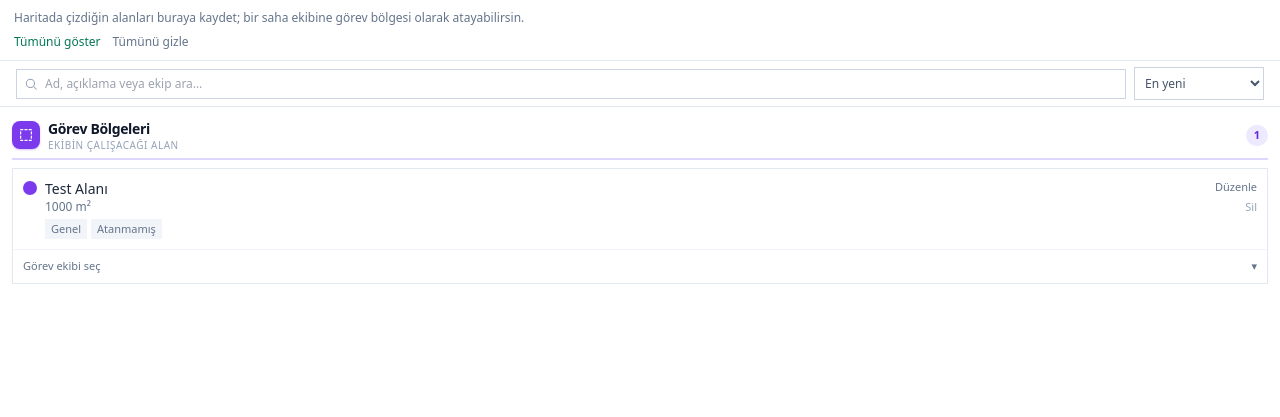
Test: BolgePaneli - atama sonrasi panel guncellenir › ekibe atayinca kart atamayi gosterir ve 'havuza geri al' cikar
# Atama bolumunu ac (katlanmis duruyor).
Click the text "Görev ekibi seç" at [62, 266], box [23,258,101,274]
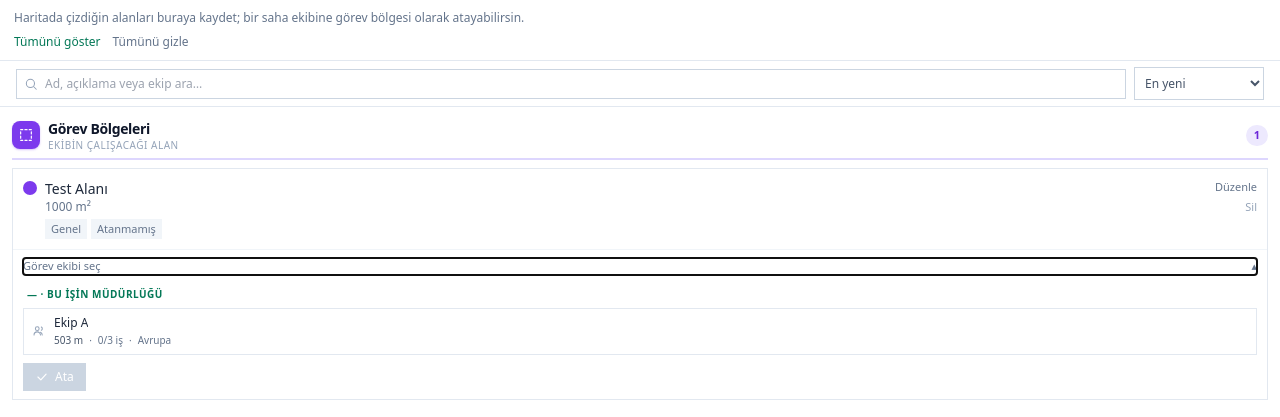
# Ekibi sec ve ata.
Click the text "Ekip A" at [71, 322], box [54,314,88,330]
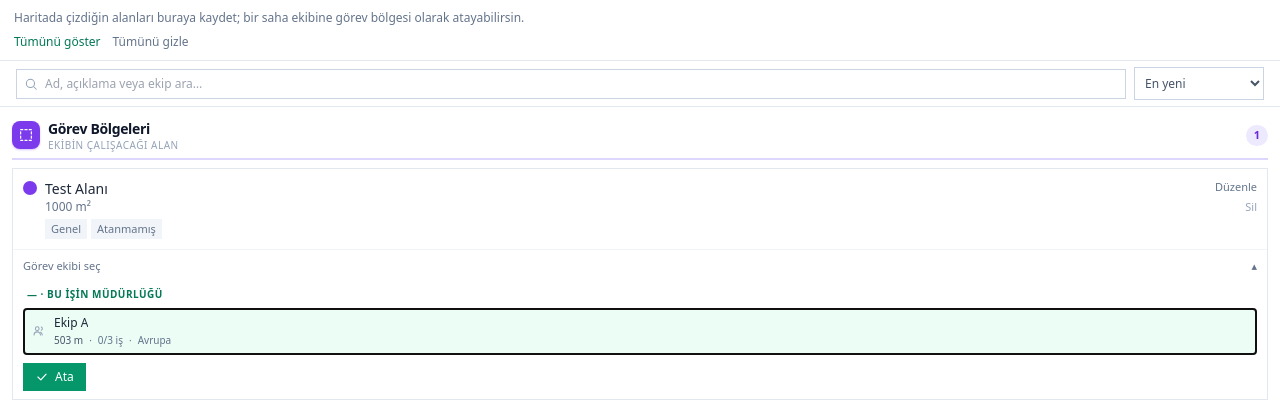
Click the button "Ata" at [54, 376], box [23,362,86,390]
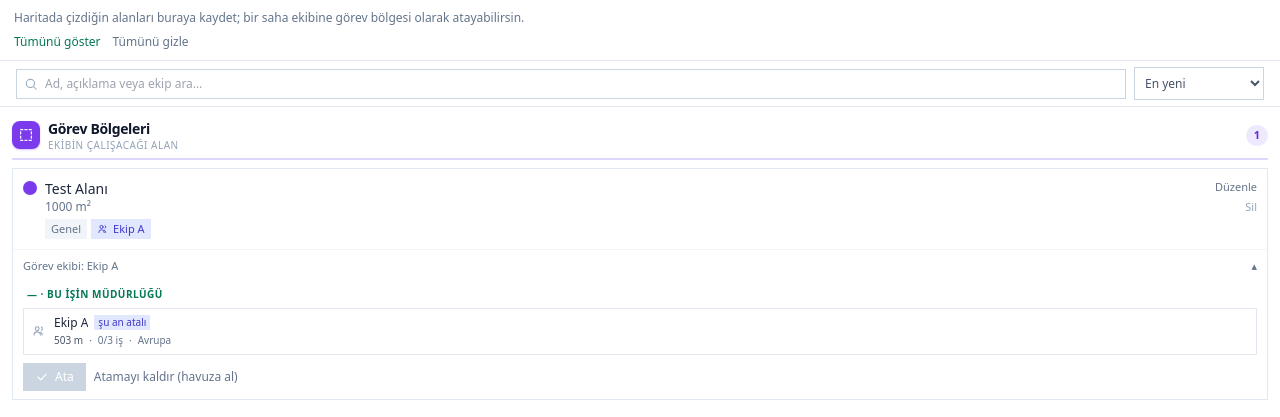
Result: the text "Görev ekibi: Ekip A" is shown at [23,258,118,274]
Result: the button "Atamayı kaldır (havuza al)" is shown at [94,368,238,384]
